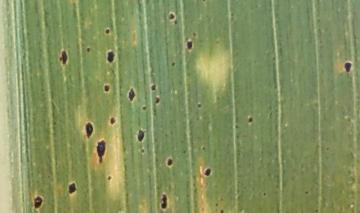tarspot: (97, 139, 106, 163), (58, 47, 68, 65), (84, 121, 93, 138), (105, 48, 115, 62), (33, 196, 43, 209), (343, 60, 353, 73), (128, 86, 136, 102), (137, 127, 145, 142), (161, 192, 167, 212), (202, 167, 212, 177), (68, 182, 76, 194), (190, 28, 198, 38), (154, 95, 162, 104), (166, 157, 173, 167), (150, 83, 158, 91), (109, 116, 116, 125), (168, 12, 175, 21), (103, 84, 110, 92), (186, 41, 193, 49), (194, 102, 203, 108), (271, 53, 277, 62), (104, 27, 111, 34), (200, 144, 207, 151), (228, 10, 235, 17), (248, 115, 253, 124), (106, 174, 112, 181), (140, 147, 146, 154), (141, 105, 148, 111), (170, 61, 177, 67), (173, 18, 179, 25), (218, 207, 225, 213), (303, 189, 309, 195), (262, 190, 267, 197), (86, 46, 91, 52), (214, 201, 219, 207), (325, 145, 330, 151), (235, 123, 239, 129), (199, 1, 207, 3), (314, 209, 318, 213)
